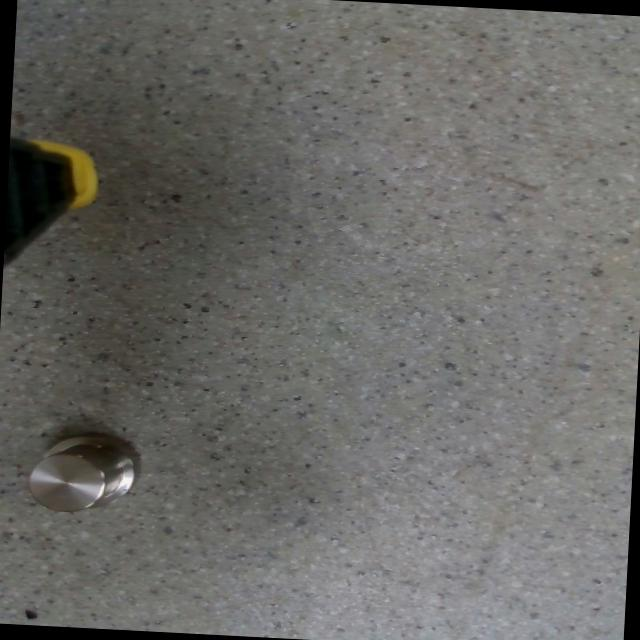sensor: (26, 428, 142, 517)
